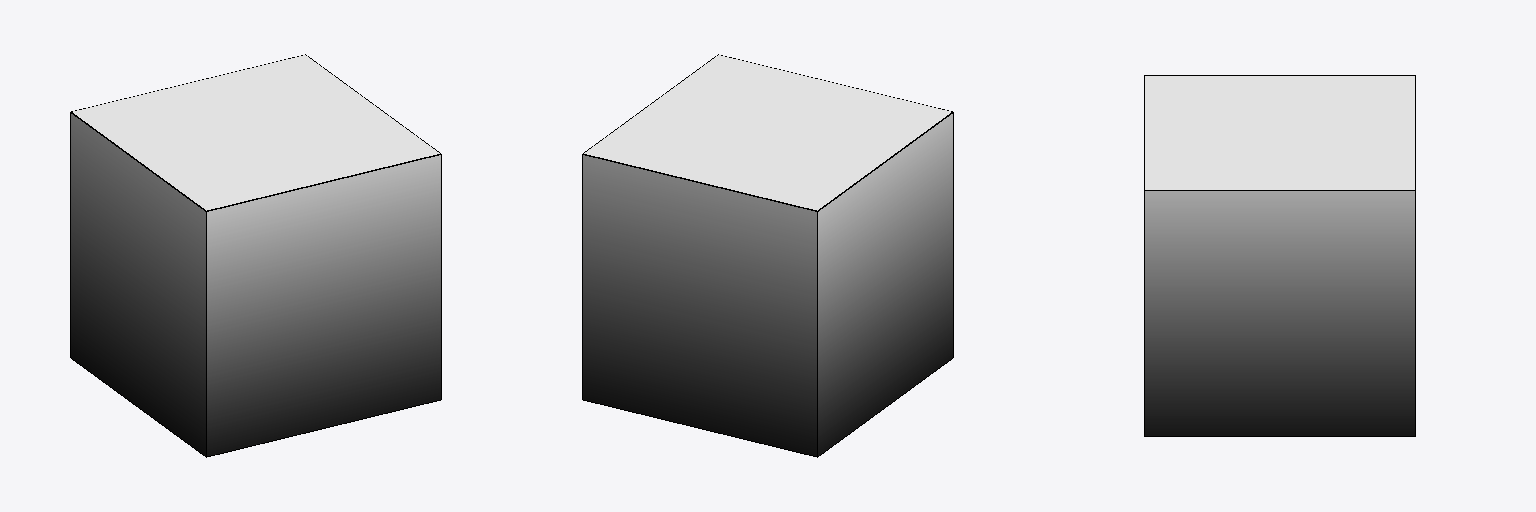
3 views of the same model, side by side, from view 1: azimuth 30°, elevation 25°; view 2: azimuth 150°, elevation 25°; view 3: azimuth 270°, elevation 25° (orthographic).
Visible parts, largest first — view 1: Cube; view 2: Cube; view 3: Cube.
Part boxes in pixels (left/top/right/bottom): Cube: left=70, top=54, right=441, bottom=457; Cube: left=582, top=54, right=953, bottom=457; Cube: left=1144, top=75, right=1415, bottom=436.
Size of the model in its own units: 2 by 2 by 2.
1 materials, 1 textured.